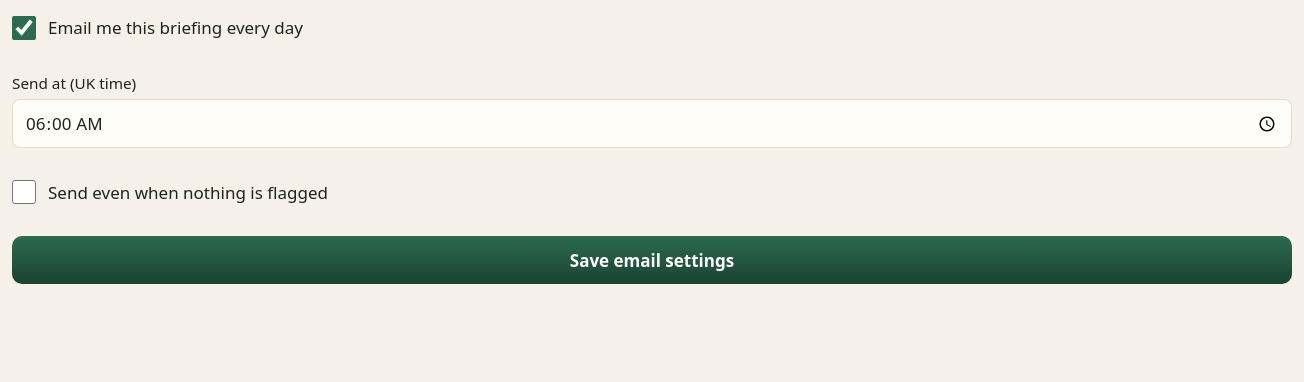
Scenario: BriefingEmailSettings (FR-4.3) › shows the saved settings and saves changes
This screenshot has width=1304, height=382.
Expected: the checkbox labelled "Email me this briefing every day" is checked, [12,16,36,40]
Replace the text in the time field labelled "Send at (UK time)" with "07:30": [652, 124] box [12,99,1292,148]
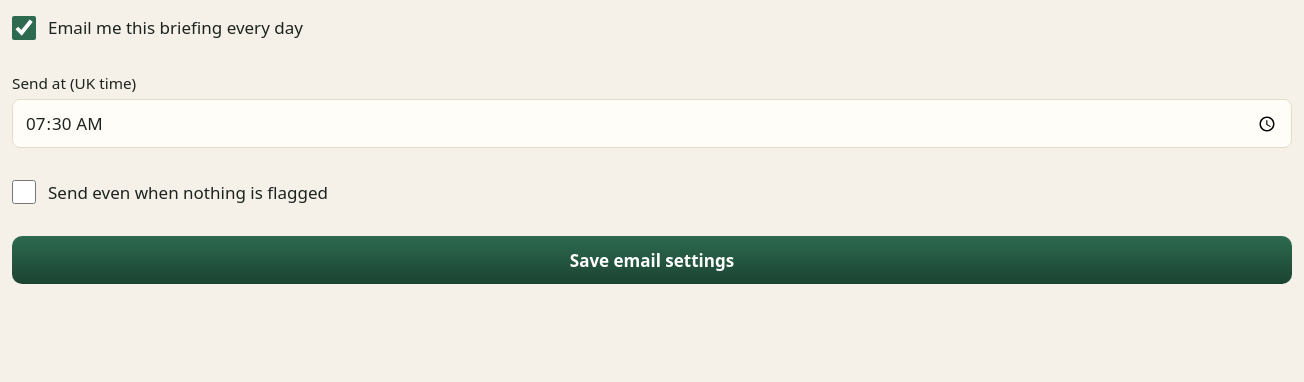
Click the checkbox labelled "Send even when nothing is flagged": [24, 192] box [12,180,36,204]
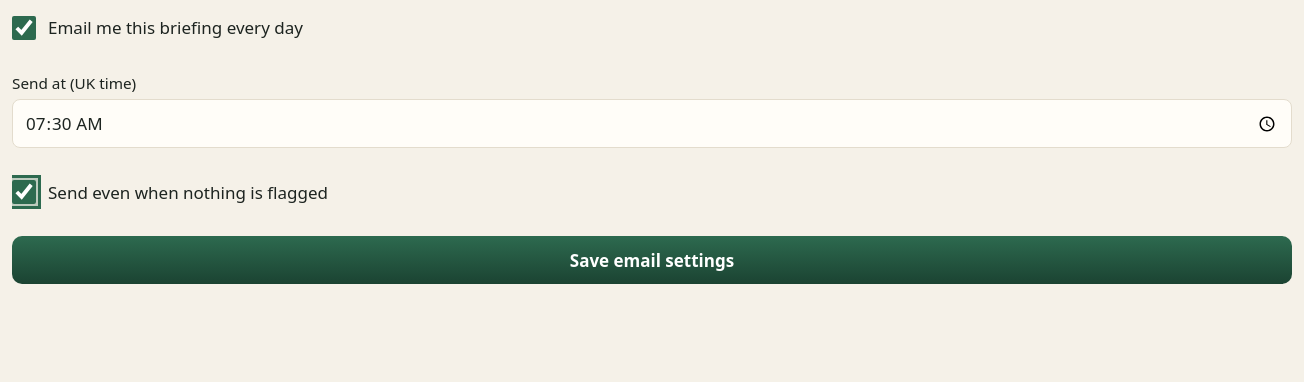
Click the button "Save email settings": [652, 260] box [12,236,1292,284]
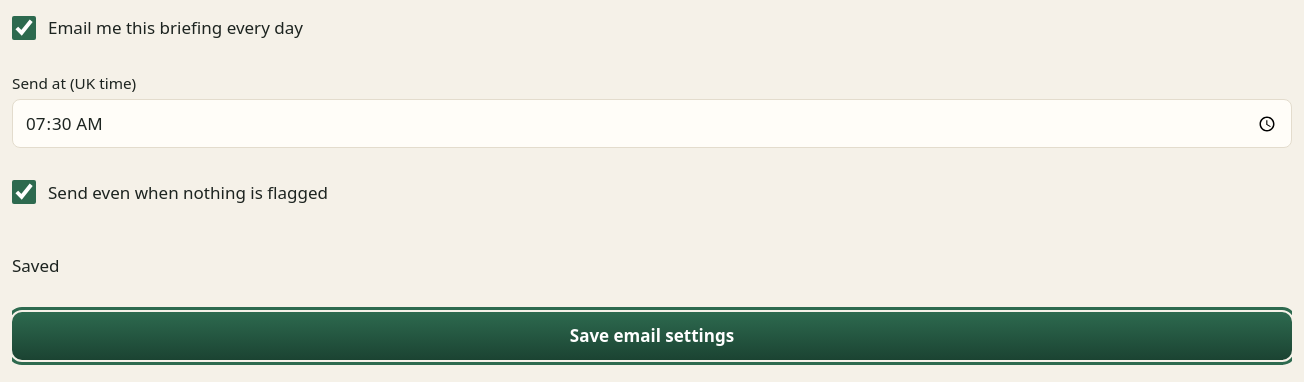
Expected: the text "Saved" is shown, [12,254,60,277]
